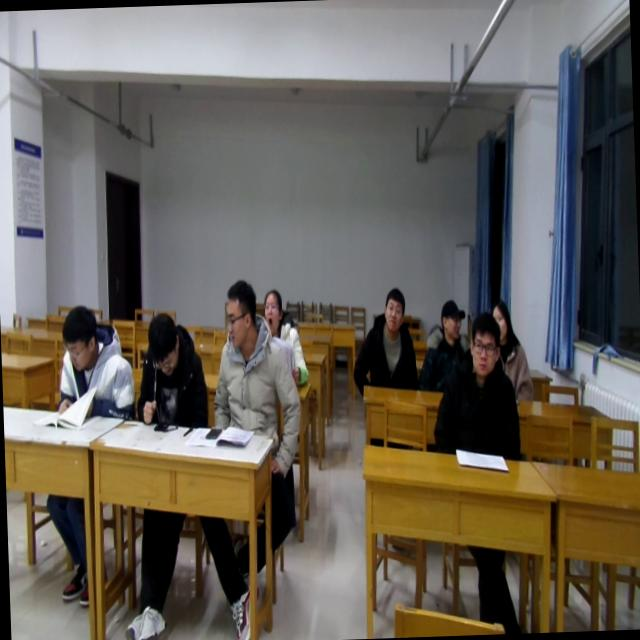bow: (52, 300, 136, 418)
down: (56, 296, 102, 374), (142, 306, 183, 378)
lookup: (466, 306, 502, 380), (379, 284, 409, 338), (260, 285, 286, 333), (488, 296, 513, 338)
sit: (206, 278, 302, 435), (429, 310, 522, 460), (132, 309, 210, 429), (348, 284, 418, 396), (416, 298, 475, 392), (488, 296, 536, 404), (260, 284, 310, 386)
